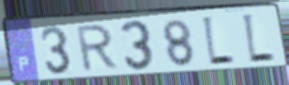3: (119, 18, 157, 73), (39, 23, 75, 77)
8: (159, 18, 197, 68)
L: (199, 15, 237, 69), (240, 12, 277, 67)
R: (75, 22, 122, 74)
